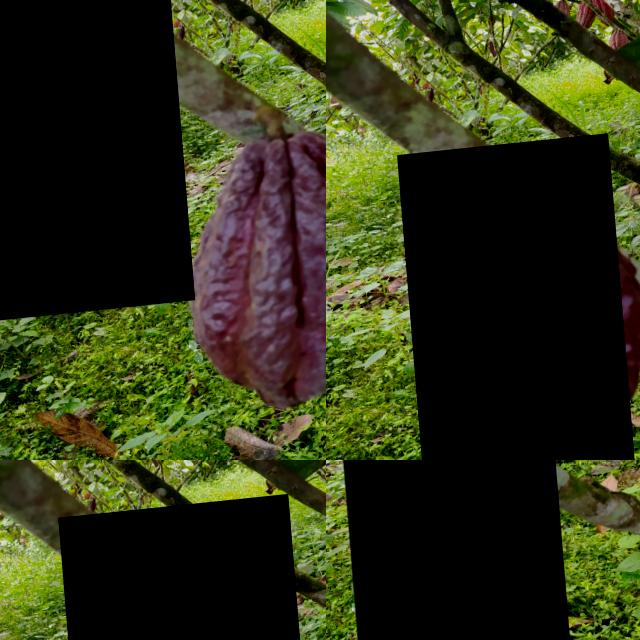Monilia: (393, 142, 626, 460), (0, 0, 187, 324)
Sana: (334, 460, 561, 640), (55, 503, 309, 640)
